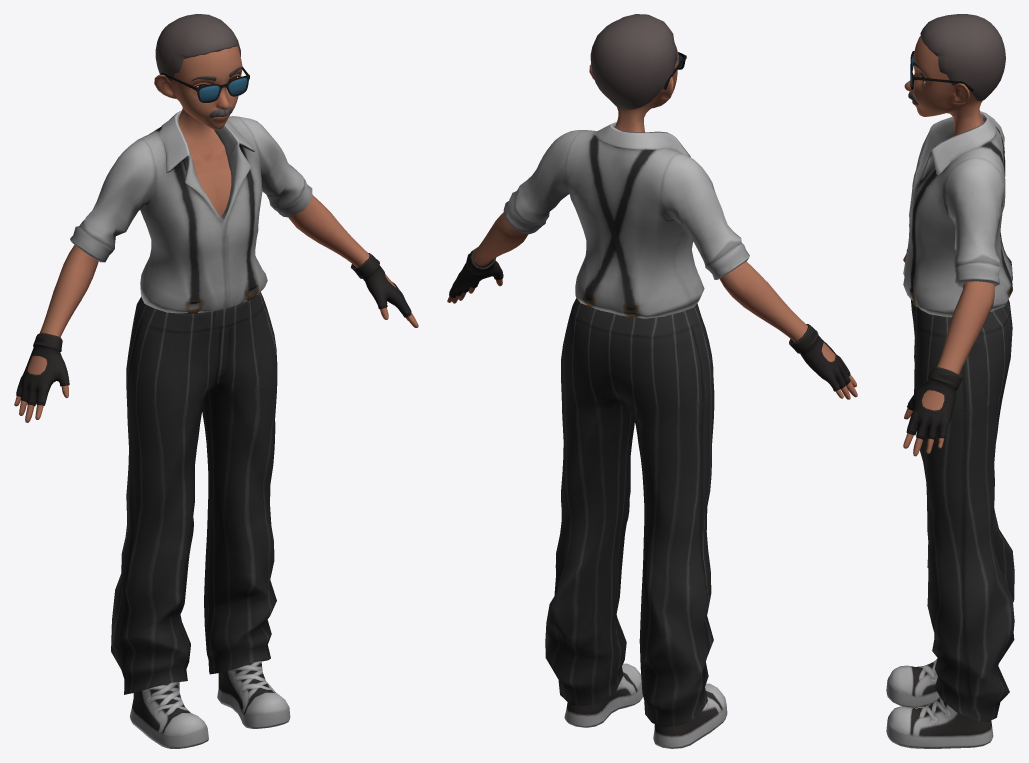
Rendered from StaffExpatriate_Mesh.obj.
3 renders of one model, left to right at view 1: azimuth 30°, elevation 25°; view 2: azimuth 150°, elevation 25°; view 3: azimuth 270°, elevation 25°, orthographic.
Visible parts, largest first — view 1: StaffExpatriate_Mesh_0; view 2: StaffExpatriate_Mesh_0; view 3: StaffExpatriate_Mesh_0.
Boxes of the visible parts, <box> form: StaffExpatriate_Mesh_0: <box>14,14,418,748</box>; StaffExpatriate_Mesh_0: <box>447,14,857,748</box>; StaffExpatriate_Mesh_0: <box>886,14,1014,748</box>.
Size of the model in its own units: 1.06 by 1.79 by 0.2966.
Materials: 1 (1 with a texture image).
